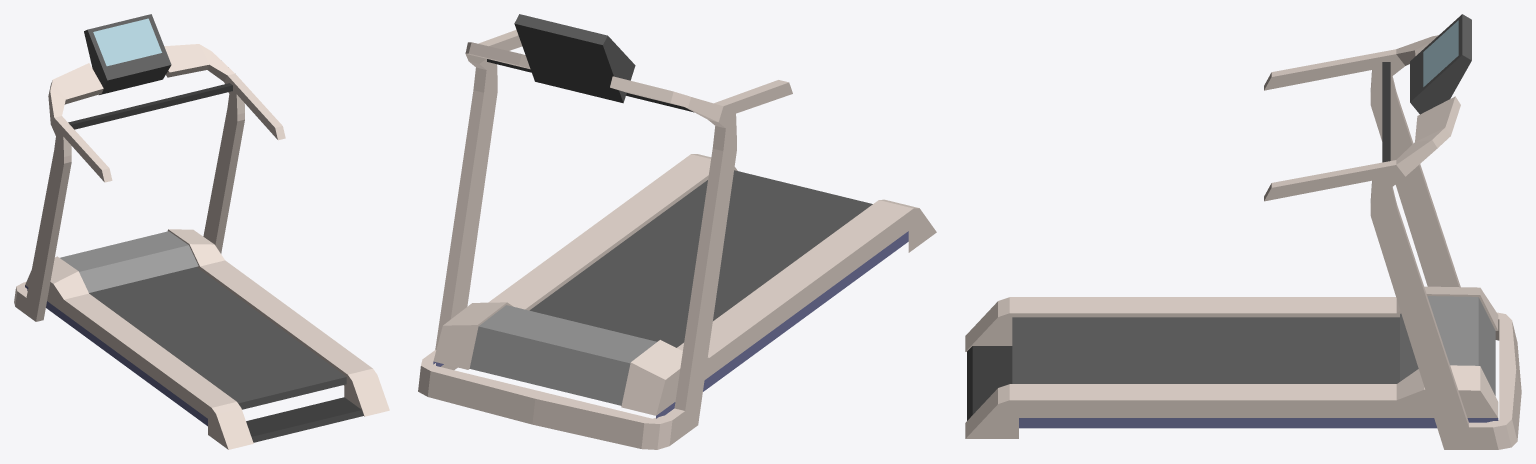
The model's file is Treadmill_1.fbx.
3 views of the same model, side by side, from view 1: azimuth 30°, elevation 25°; view 2: azimuth 150°, elevation 25°; view 3: azimuth 270°, elevation 25° (orthographic). The views are drawn at different scales.
Parts seen in each view (by area): view 1: Treadmill_1; view 2: Treadmill_1; view 3: Treadmill_1.
Boxes of the visible parts, x1,y1,x2,y2 form: Treadmill_1: (14,14,389,449); Treadmill_1: (418,14,936,449); Treadmill_1: (965,14,1521,449).
Size of the model in its own units: 117 by 238 by 169.
